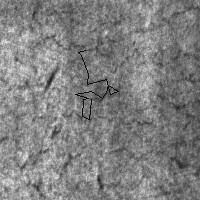crazing: (30, 3, 200, 104), (3, 106, 166, 197), (75, 50, 118, 119)
